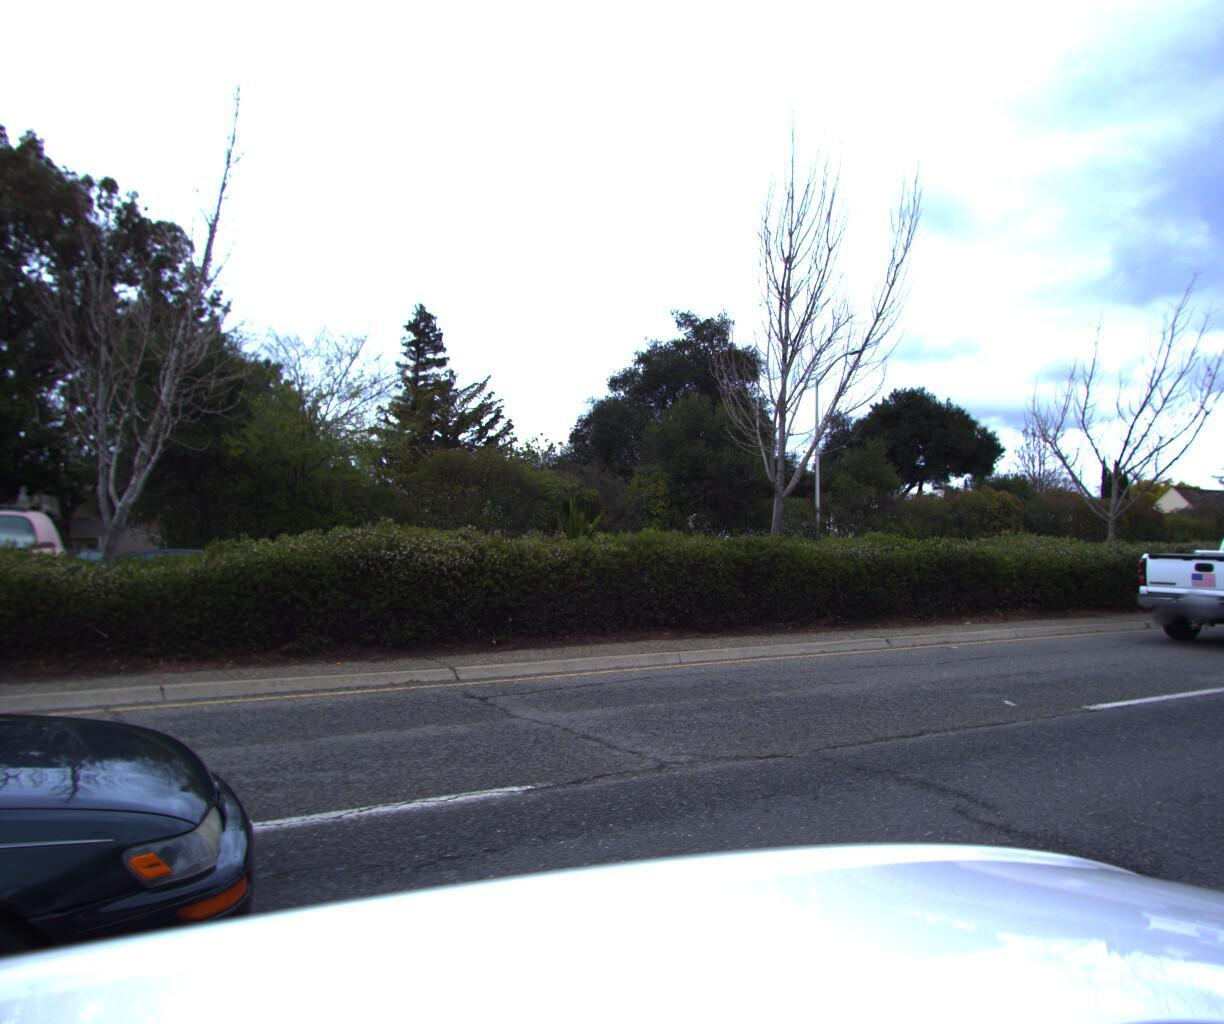car: (0, 508, 306, 1024), (1109, 507, 1224, 664), (0, 495, 141, 612), (72, 555, 296, 625)
